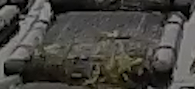bag: (4, 2, 183, 84)
